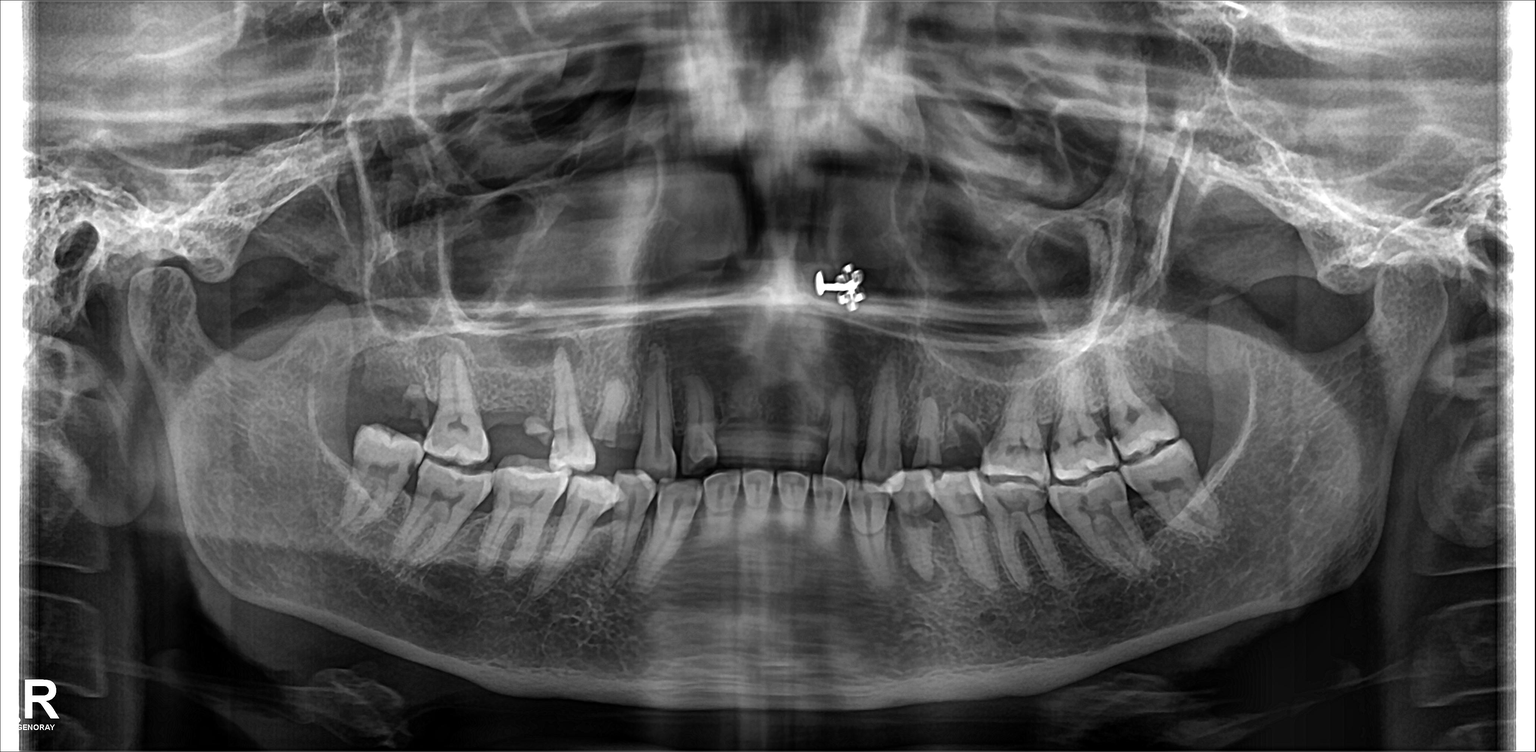Dental Caries: (953, 426, 983, 457), (616, 424, 645, 447)
Missing Tooth: (1158, 329, 1223, 435), (777, 391, 833, 468), (726, 391, 775, 465), (484, 367, 515, 450), (345, 359, 383, 420)
Retained Root: (518, 359, 556, 448), (387, 359, 429, 431), (946, 393, 983, 471)
